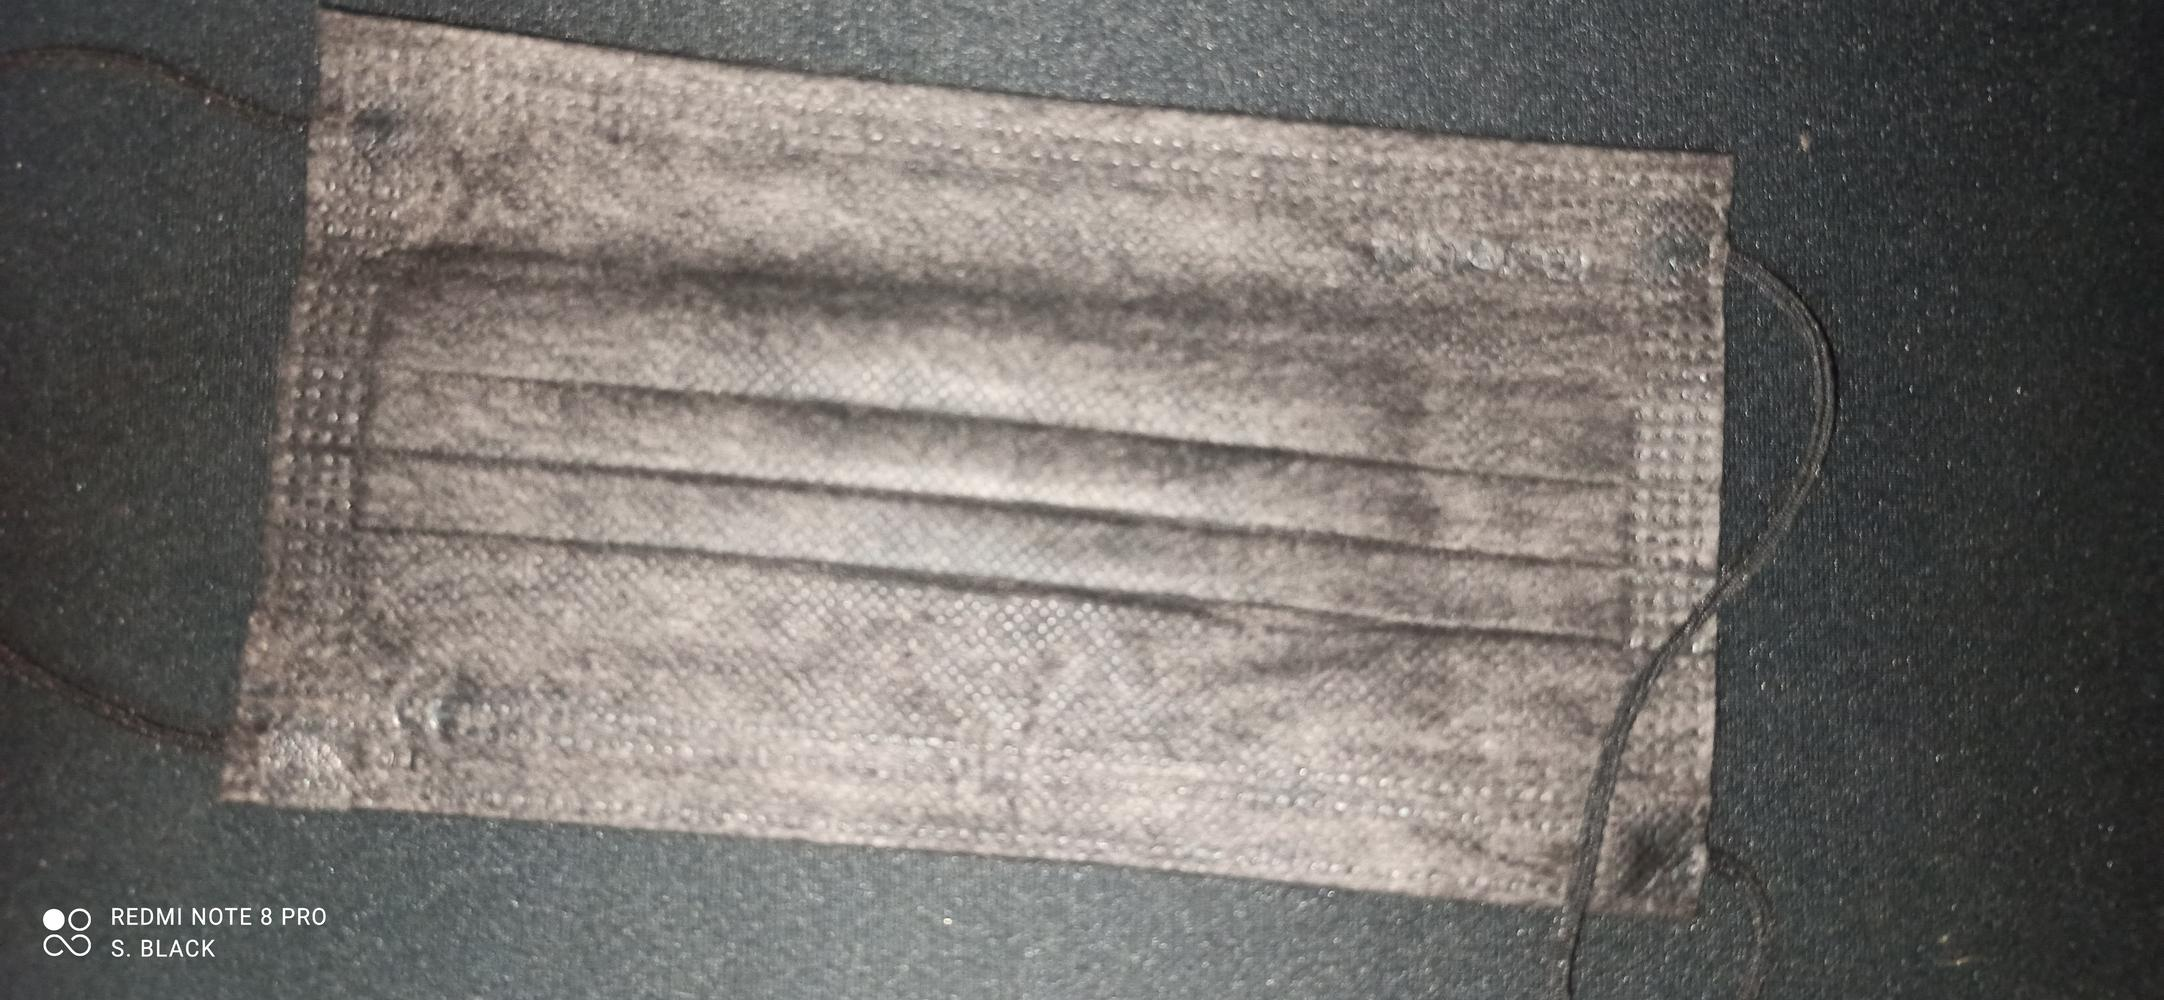Face Mask: (317, 24, 1704, 891)
